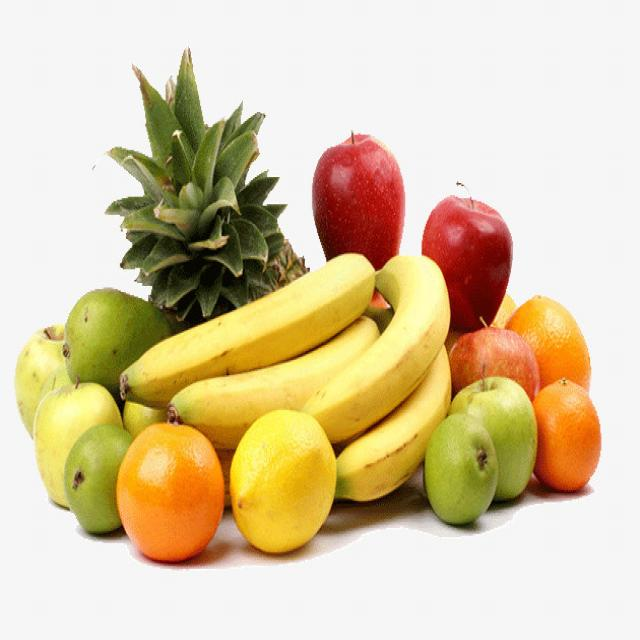apple: (314, 135, 409, 278), (422, 184, 511, 332), (32, 382, 120, 508), (450, 372, 538, 496), (14, 314, 72, 447), (450, 328, 538, 397)
banana: (122, 249, 452, 499)
lemon: (230, 410, 335, 560)
orange: (118, 417, 227, 564), (529, 376, 605, 492), (513, 296, 596, 392)
pear: (64, 289, 168, 392), (425, 416, 499, 530), (68, 418, 132, 541)
pineapple: (111, 49, 318, 356)
